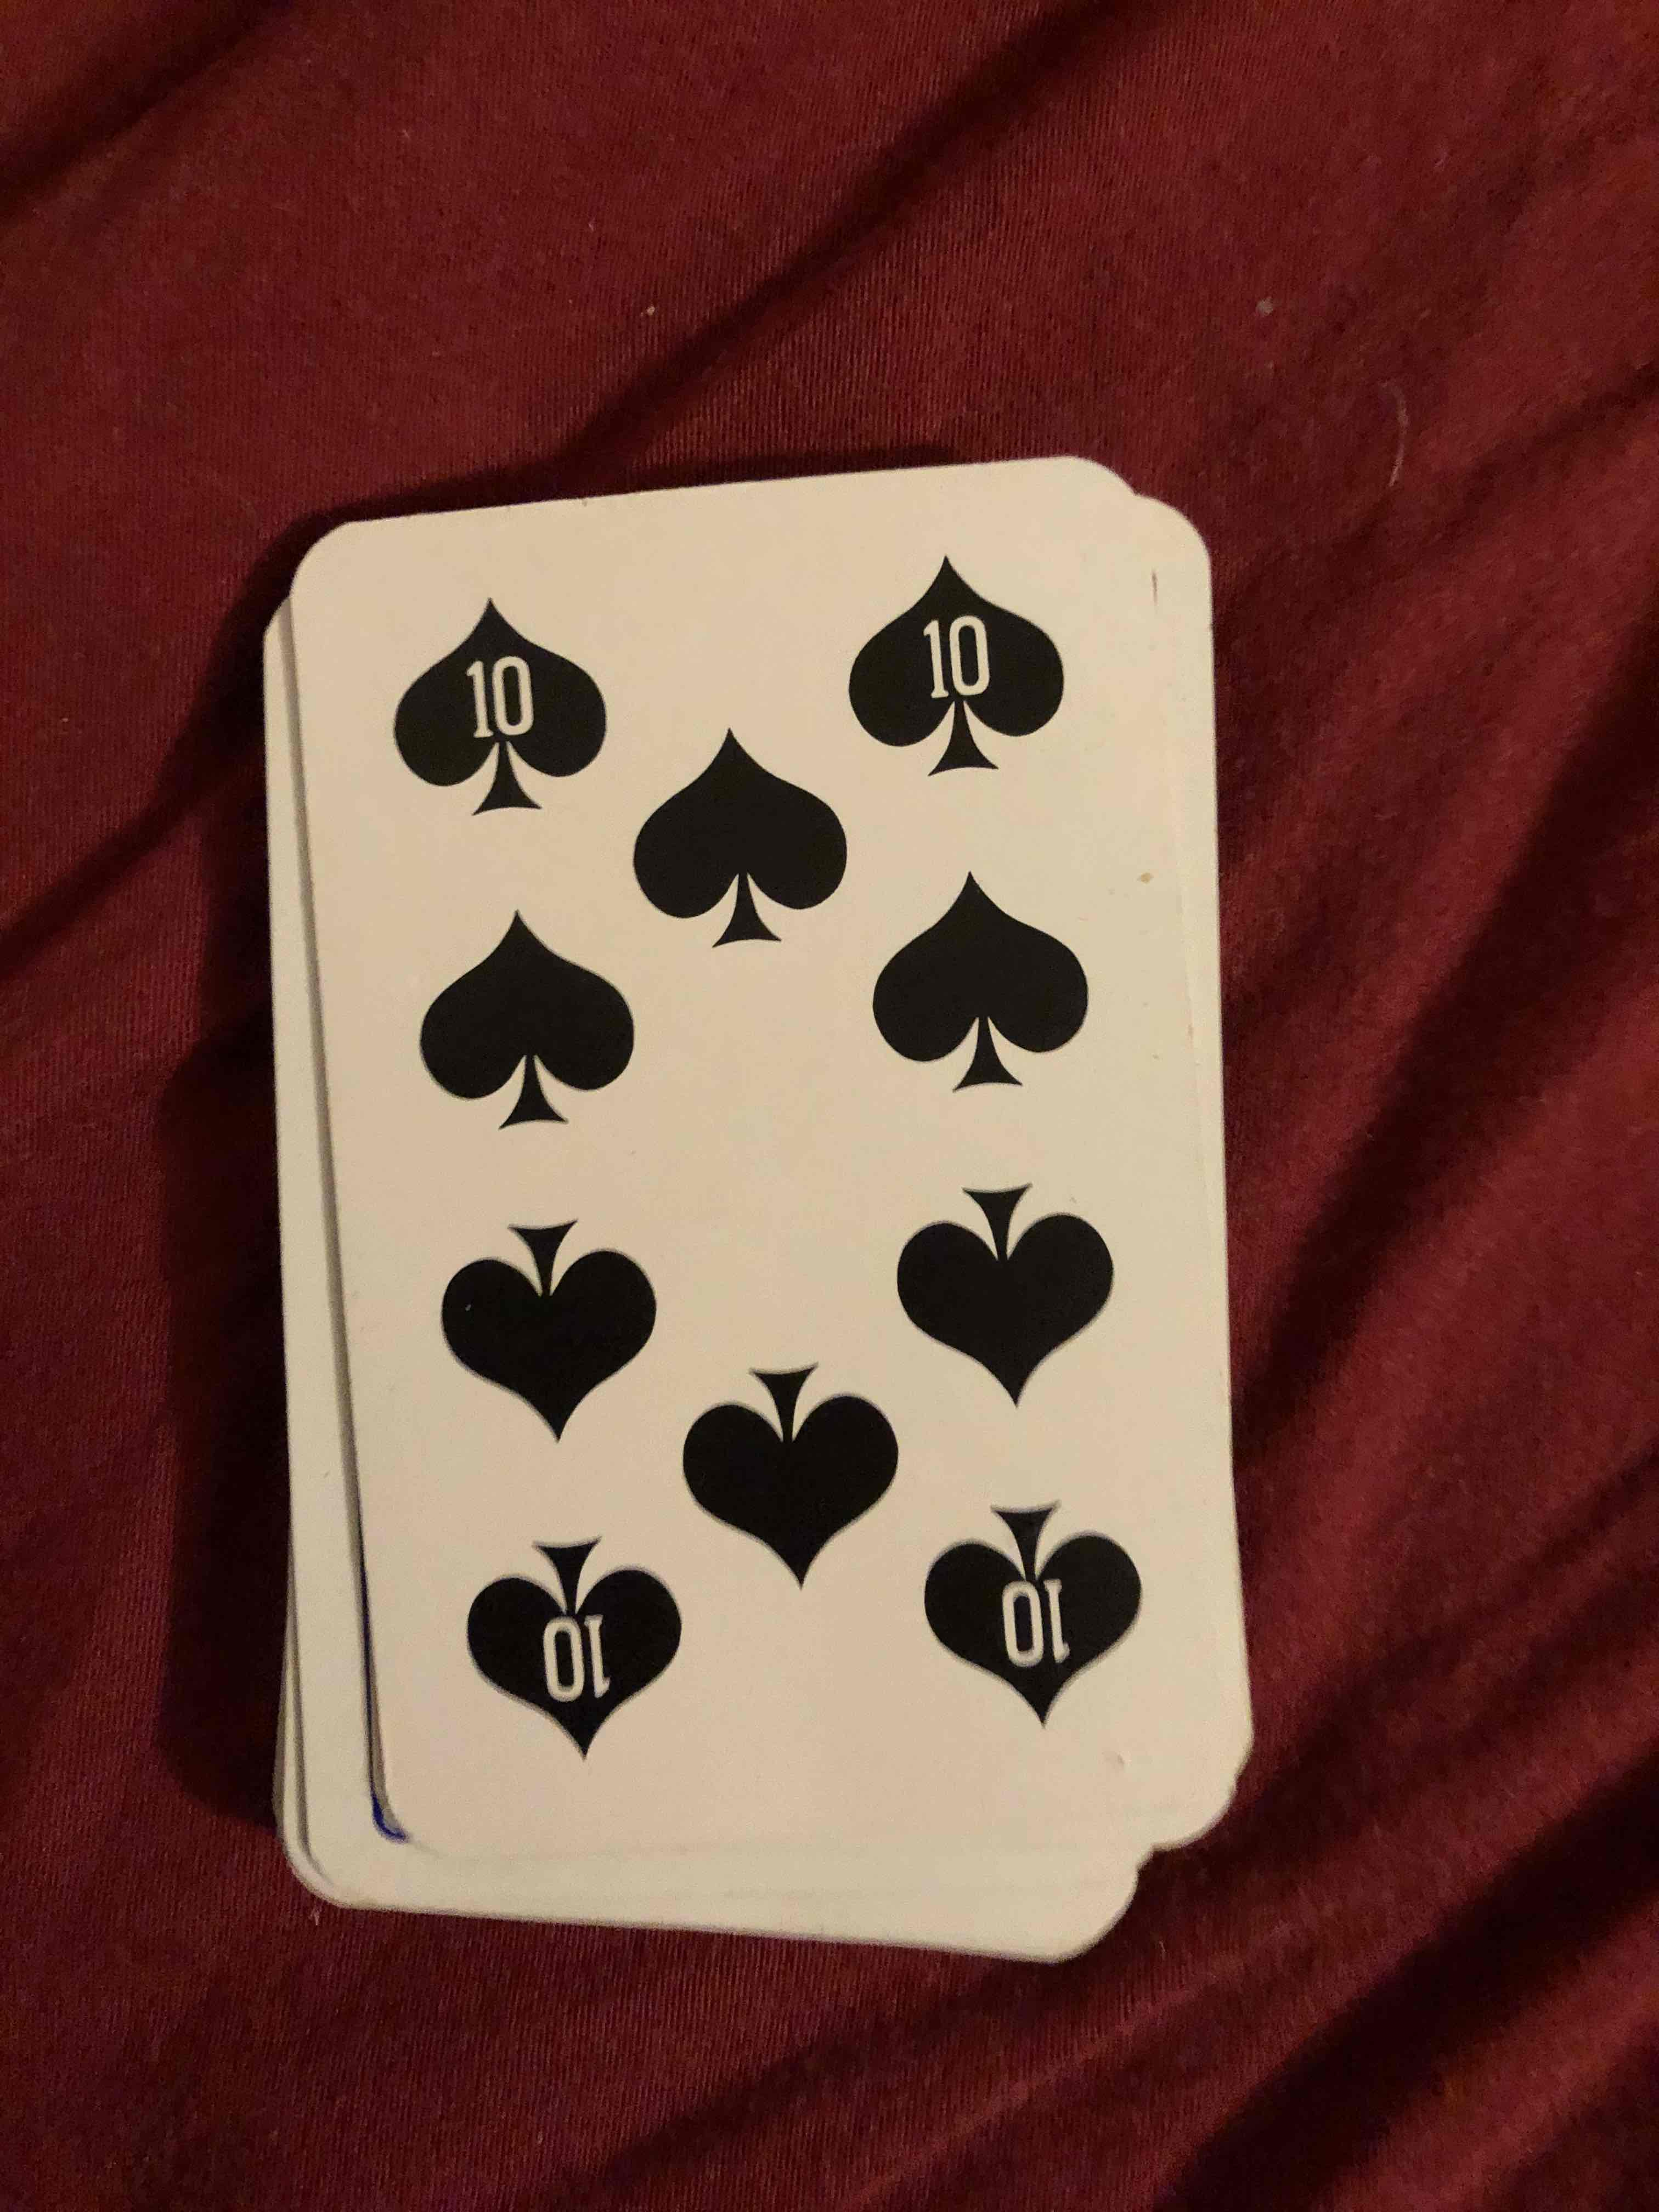spades10: (260, 524, 1249, 1813)
